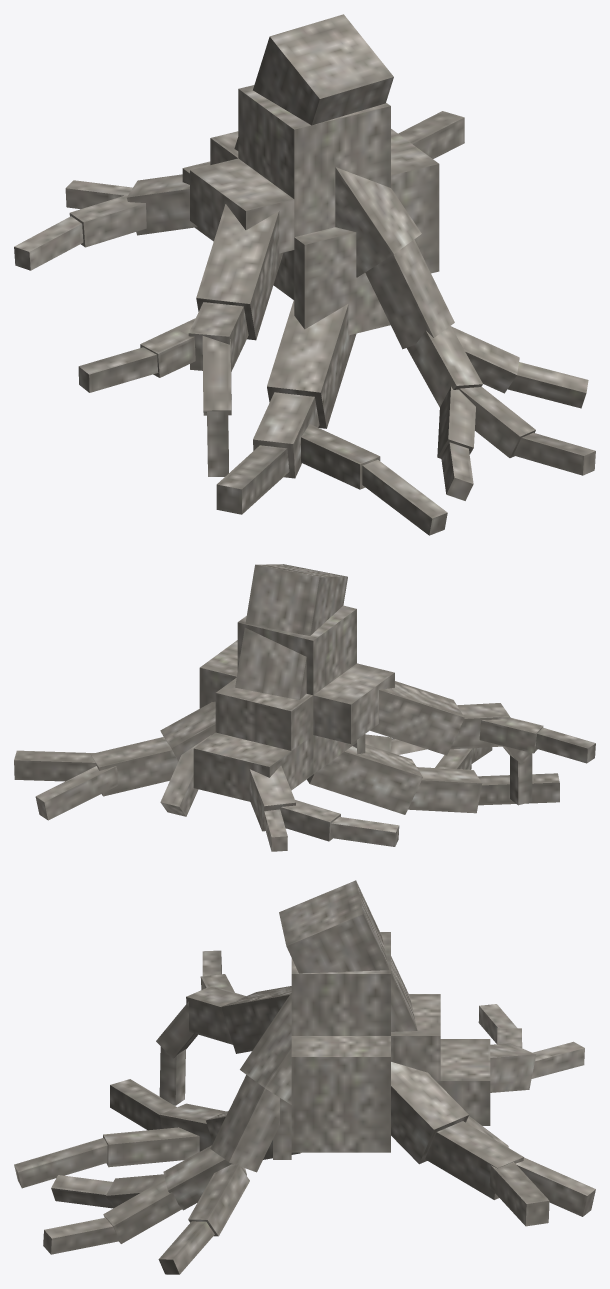
Rendered from white_tree_base.obj.
3 renders of one model, top to bottom at view 1: azimuth 30°, elevation 25°; view 2: azimuth 150°, elevation 25°; view 3: azimuth 270°, elevation 25°, orthographic. The views are drawn at different scales.
Parts seen in each view (by area): view 1: cube; view 2: cube; view 3: cube.
Part boxes in pixels (box(x1,y1,x2,y2)): cube: box(14, 14, 595, 535); cube: box(14, 564, 595, 851); cube: box(14, 880, 595, 1274).
Size of the model in its own units: 5.77 by 3.48 by 5.86.
